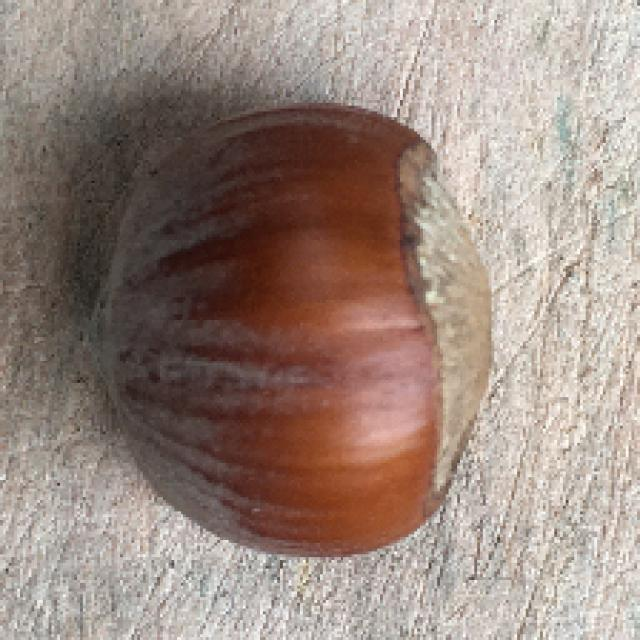qualityHazelnut: (92, 93, 493, 566)
